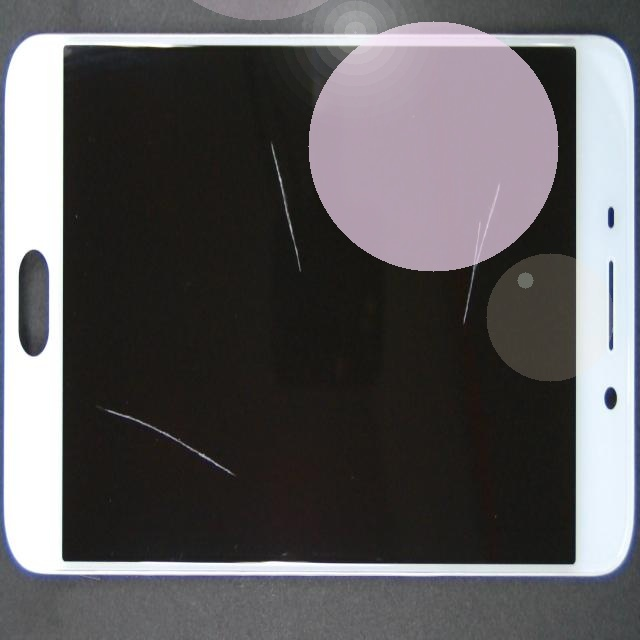scratch: (265, 96, 640, 252), (165, 193, 459, 372), (204, 281, 296, 640)
